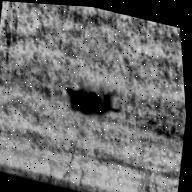boar: (57, 74, 130, 122)
